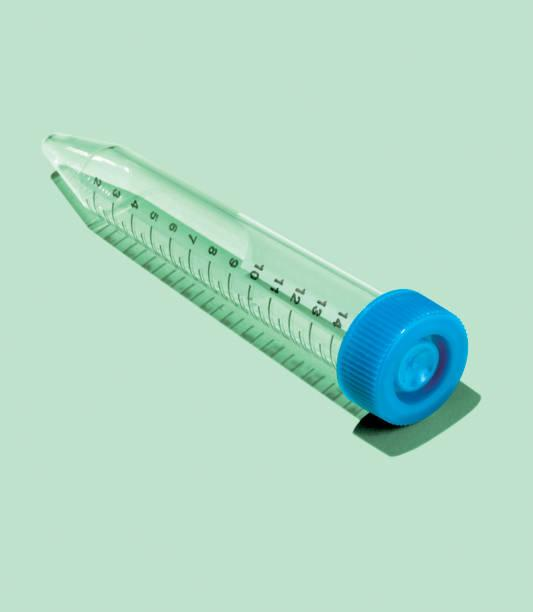Test tube: (28, 123, 476, 434)
